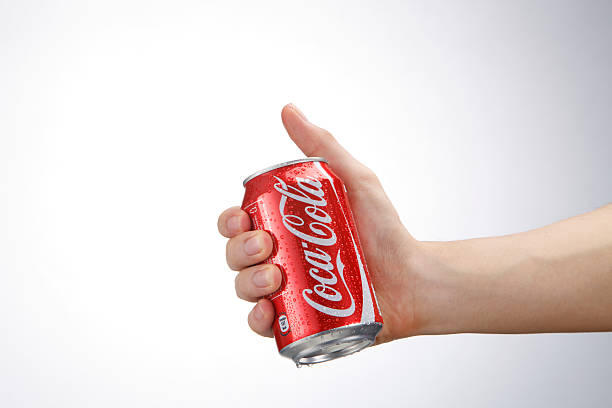coke: (243, 157, 385, 368)
